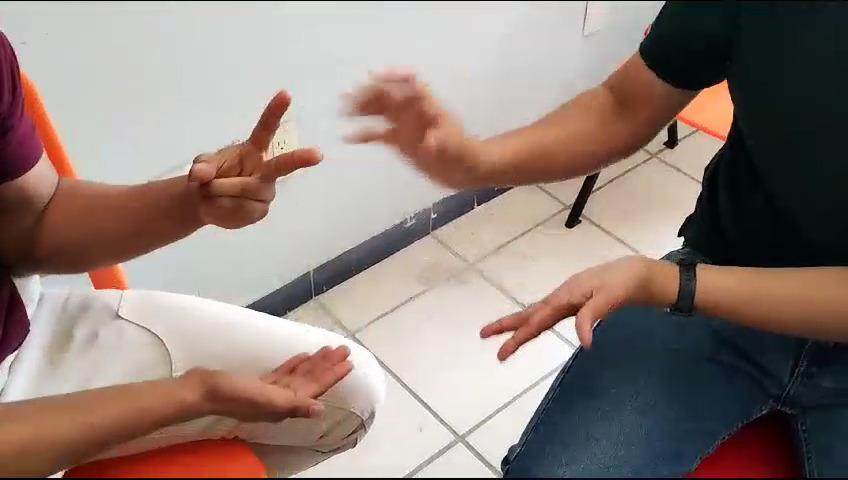Scissor: (162, 79, 332, 236)
